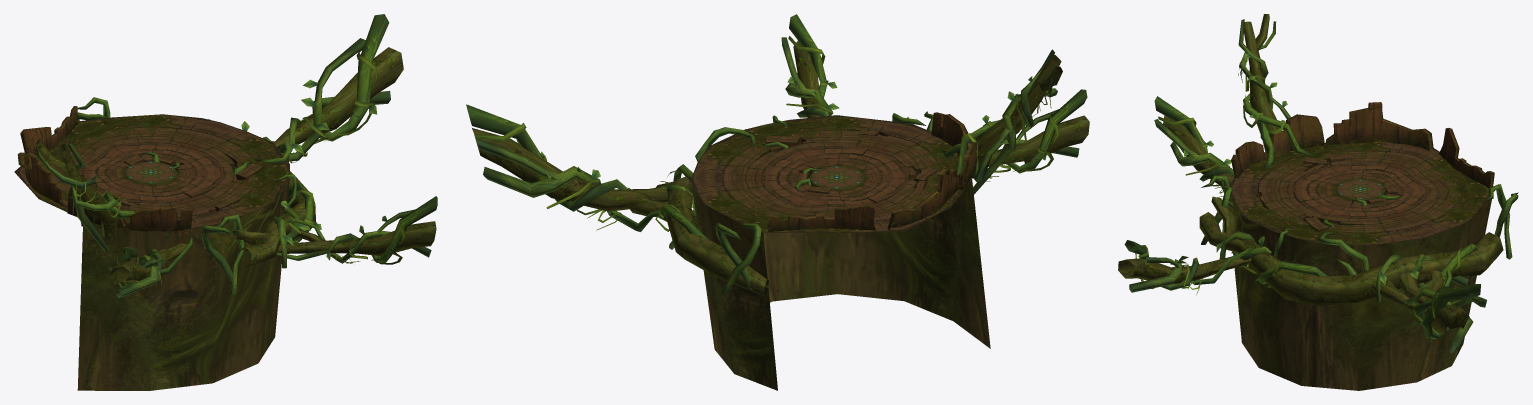
The model's file is terrain_section04_guanka03_dimian.FBX.
3 renders of one model, left to right at view 1: azimuth 30°, elevation 25°; view 2: azimuth 150°, elevation 25°; view 3: azimuth 270°, elevation 25°, orthographic. The views are drawn at different scales.
Visible parts, largest first — view 1: terrain_section04_guanka03_dimian; view 2: terrain_section04_guanka03_dimian; view 3: terrain_section04_guanka03_dimian.
Boxes of the visible parts, <box> form: terrain_section04_guanka03_dimian: <box>14,14,437,390</box>; terrain_section04_guanka03_dimian: <box>466,14,1089,390</box>; terrain_section04_guanka03_dimian: <box>1118,14,1518,390</box>.
Bounding box in the file's own units: 87.93 × 70.03 × 49.89.
